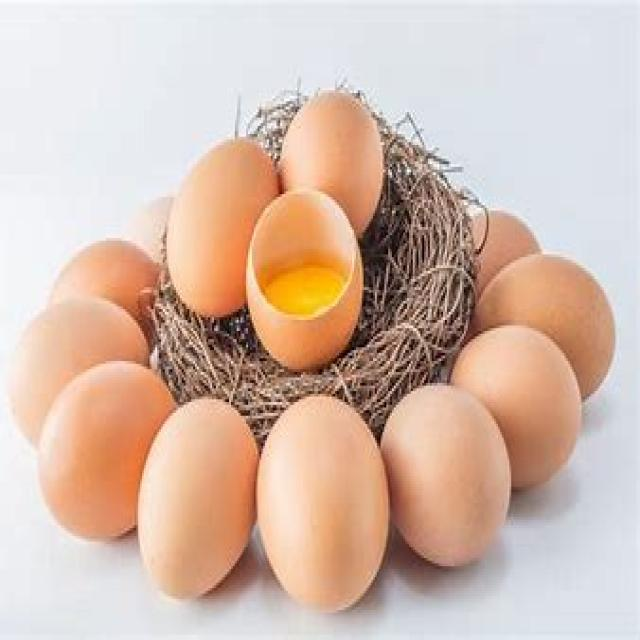Brown Egg: (248, 392, 392, 618), (24, 351, 169, 559), (390, 381, 518, 576), (138, 392, 264, 588), (472, 247, 618, 403), (456, 316, 586, 485), (170, 128, 270, 319), (270, 84, 389, 212)
